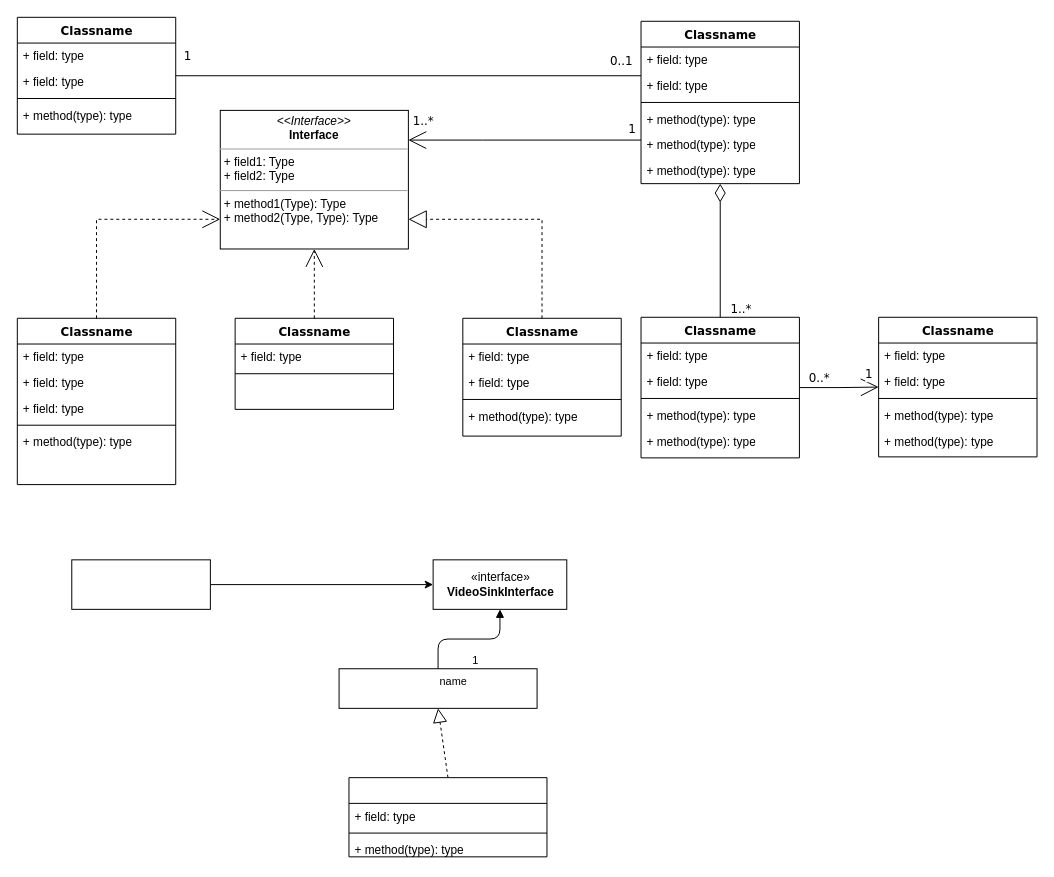
The diagram is 1054 pixels wide and 877 high, and some of its shapes have lost their labels. The shapes that lost their labels are listed below. From the top down, each one's box as (x1, y1, x2, y2) in pixels, then its label:
(71, 559, 210, 609): «interface» VideoSourceInterface
(338, 668, 537, 708): «interface» VideoStreamEncoderInterface
(348, 777, 547, 857): VideoStreamEncoder
